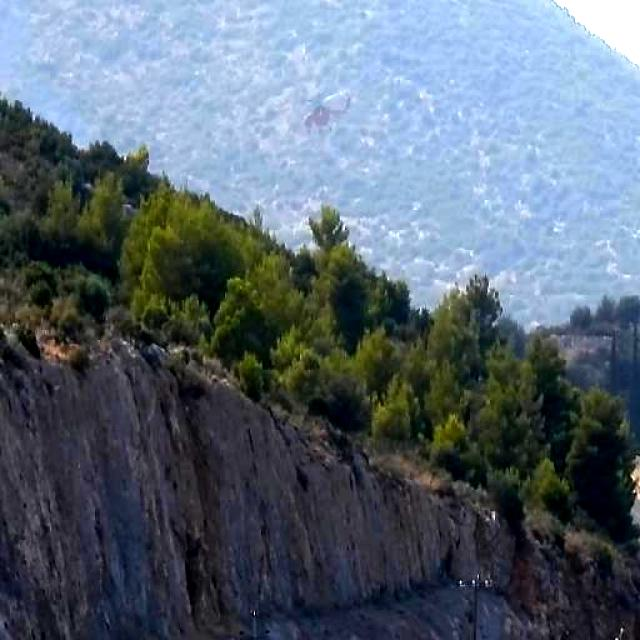drone: (299, 81, 369, 145)
